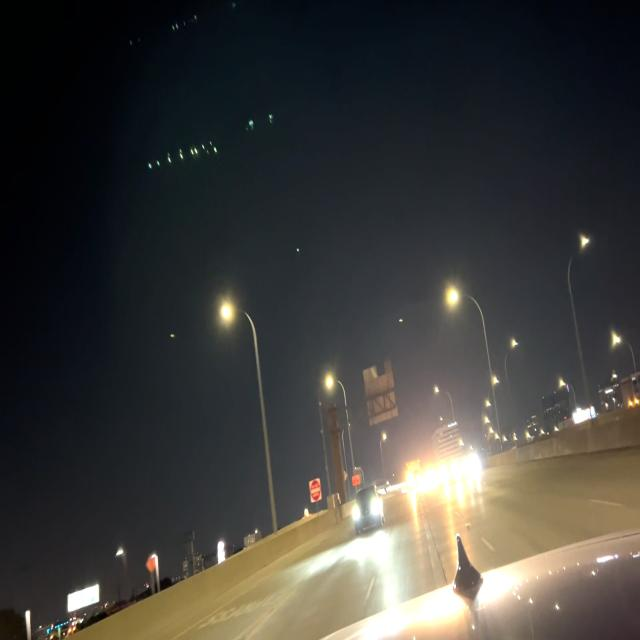back-of-sign: (363, 361, 400, 432)
